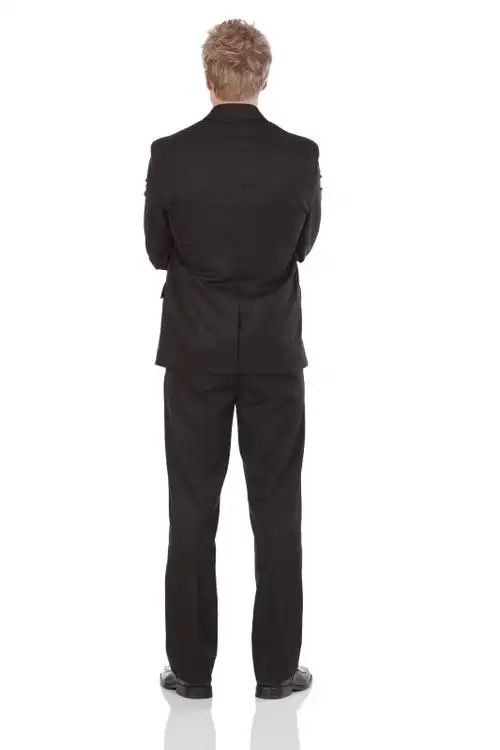up: (129, 16, 360, 711)
